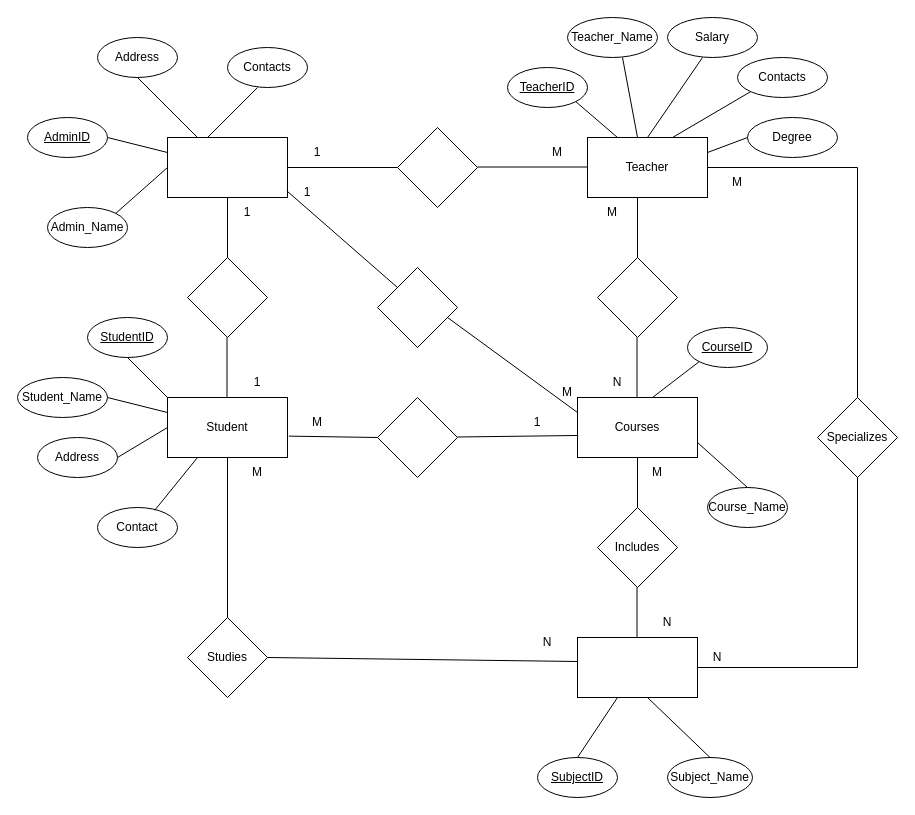
Some shapes in this 915 by 815 pixel diagram are drawn without their labels. The shapes that lost their labels are listed below. From the top down, each one's centre as x and y in pixels, then its label:
At [227,167]: "Admin".
At [437,167]: "renumerates".
At [227,297]: "funds".
At [417,307]: "manages".
At [637,297]: "Teaches".
At [417,437]: "Enrolls".
At [637,667]: "Subjects".
